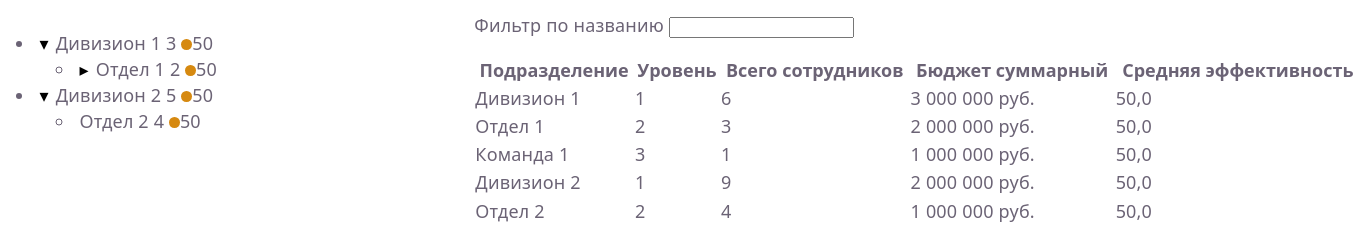
Test: OrgTreeScreen: выделение узла по клику на строку › после обновления данных › AC-002-13: тот же узел остаётся выделенным в таблице и дереве
Click the row "Команда 1 3 1 1 000 000 руб. 50,0".
click(918, 154)  # box left=474, top=140, right=1360, bottom=168
Wait 5100 ms
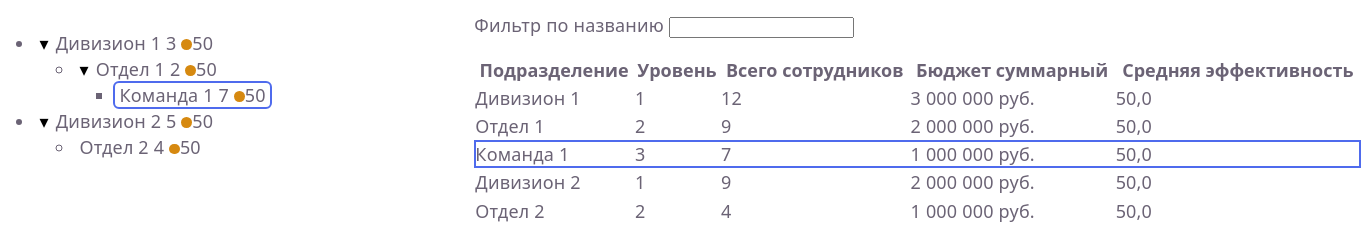
expect the cell "7" is shown: met, box left=720, top=140, right=910, bottom=168
